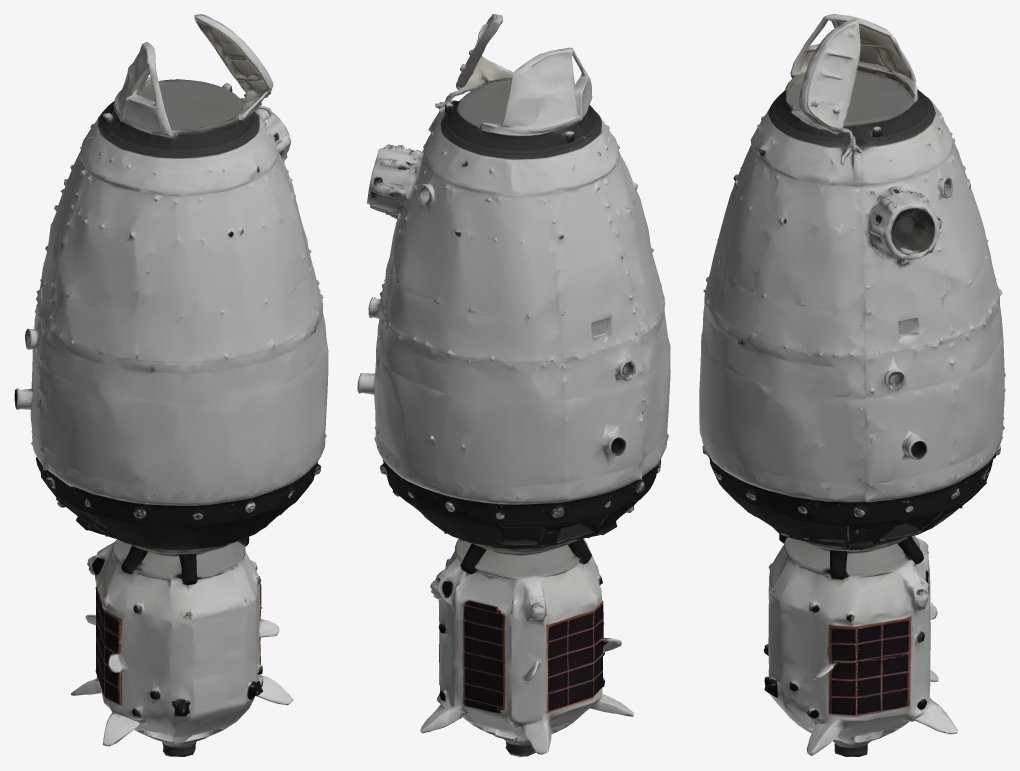
The model's file is dragon.glb.
3 views of the same model, side by side, from view 1: azimuth 30°, elevation 25°; view 2: azimuth 150°, elevation 25°; view 3: azimuth 270°, elevation 25° (orthographic). The views are drawn at different scales.
Parts seen in each view (by area): view 1: tripo_node_78f88827-09e7-403d-bb7e-68efa46f042f; view 2: tripo_node_78f88827-09e7-403d-bb7e-68efa46f042f; view 3: tripo_node_78f88827-09e7-403d-bb7e-68efa46f042f.
Part boxes in pixels (x1,y1,x2,y2): tripo_node_78f88827-09e7-403d-bb7e-68efa46f042f: (14, 14, 328, 756); tripo_node_78f88827-09e7-403d-bb7e-68efa46f042f: (357, 14, 670, 756); tripo_node_78f88827-09e7-403d-bb7e-68efa46f042f: (699, 14, 1005, 756).
Size of the model in its own units: 0.3827 by 1 by 0.3732.
1 material, 1 textured.
